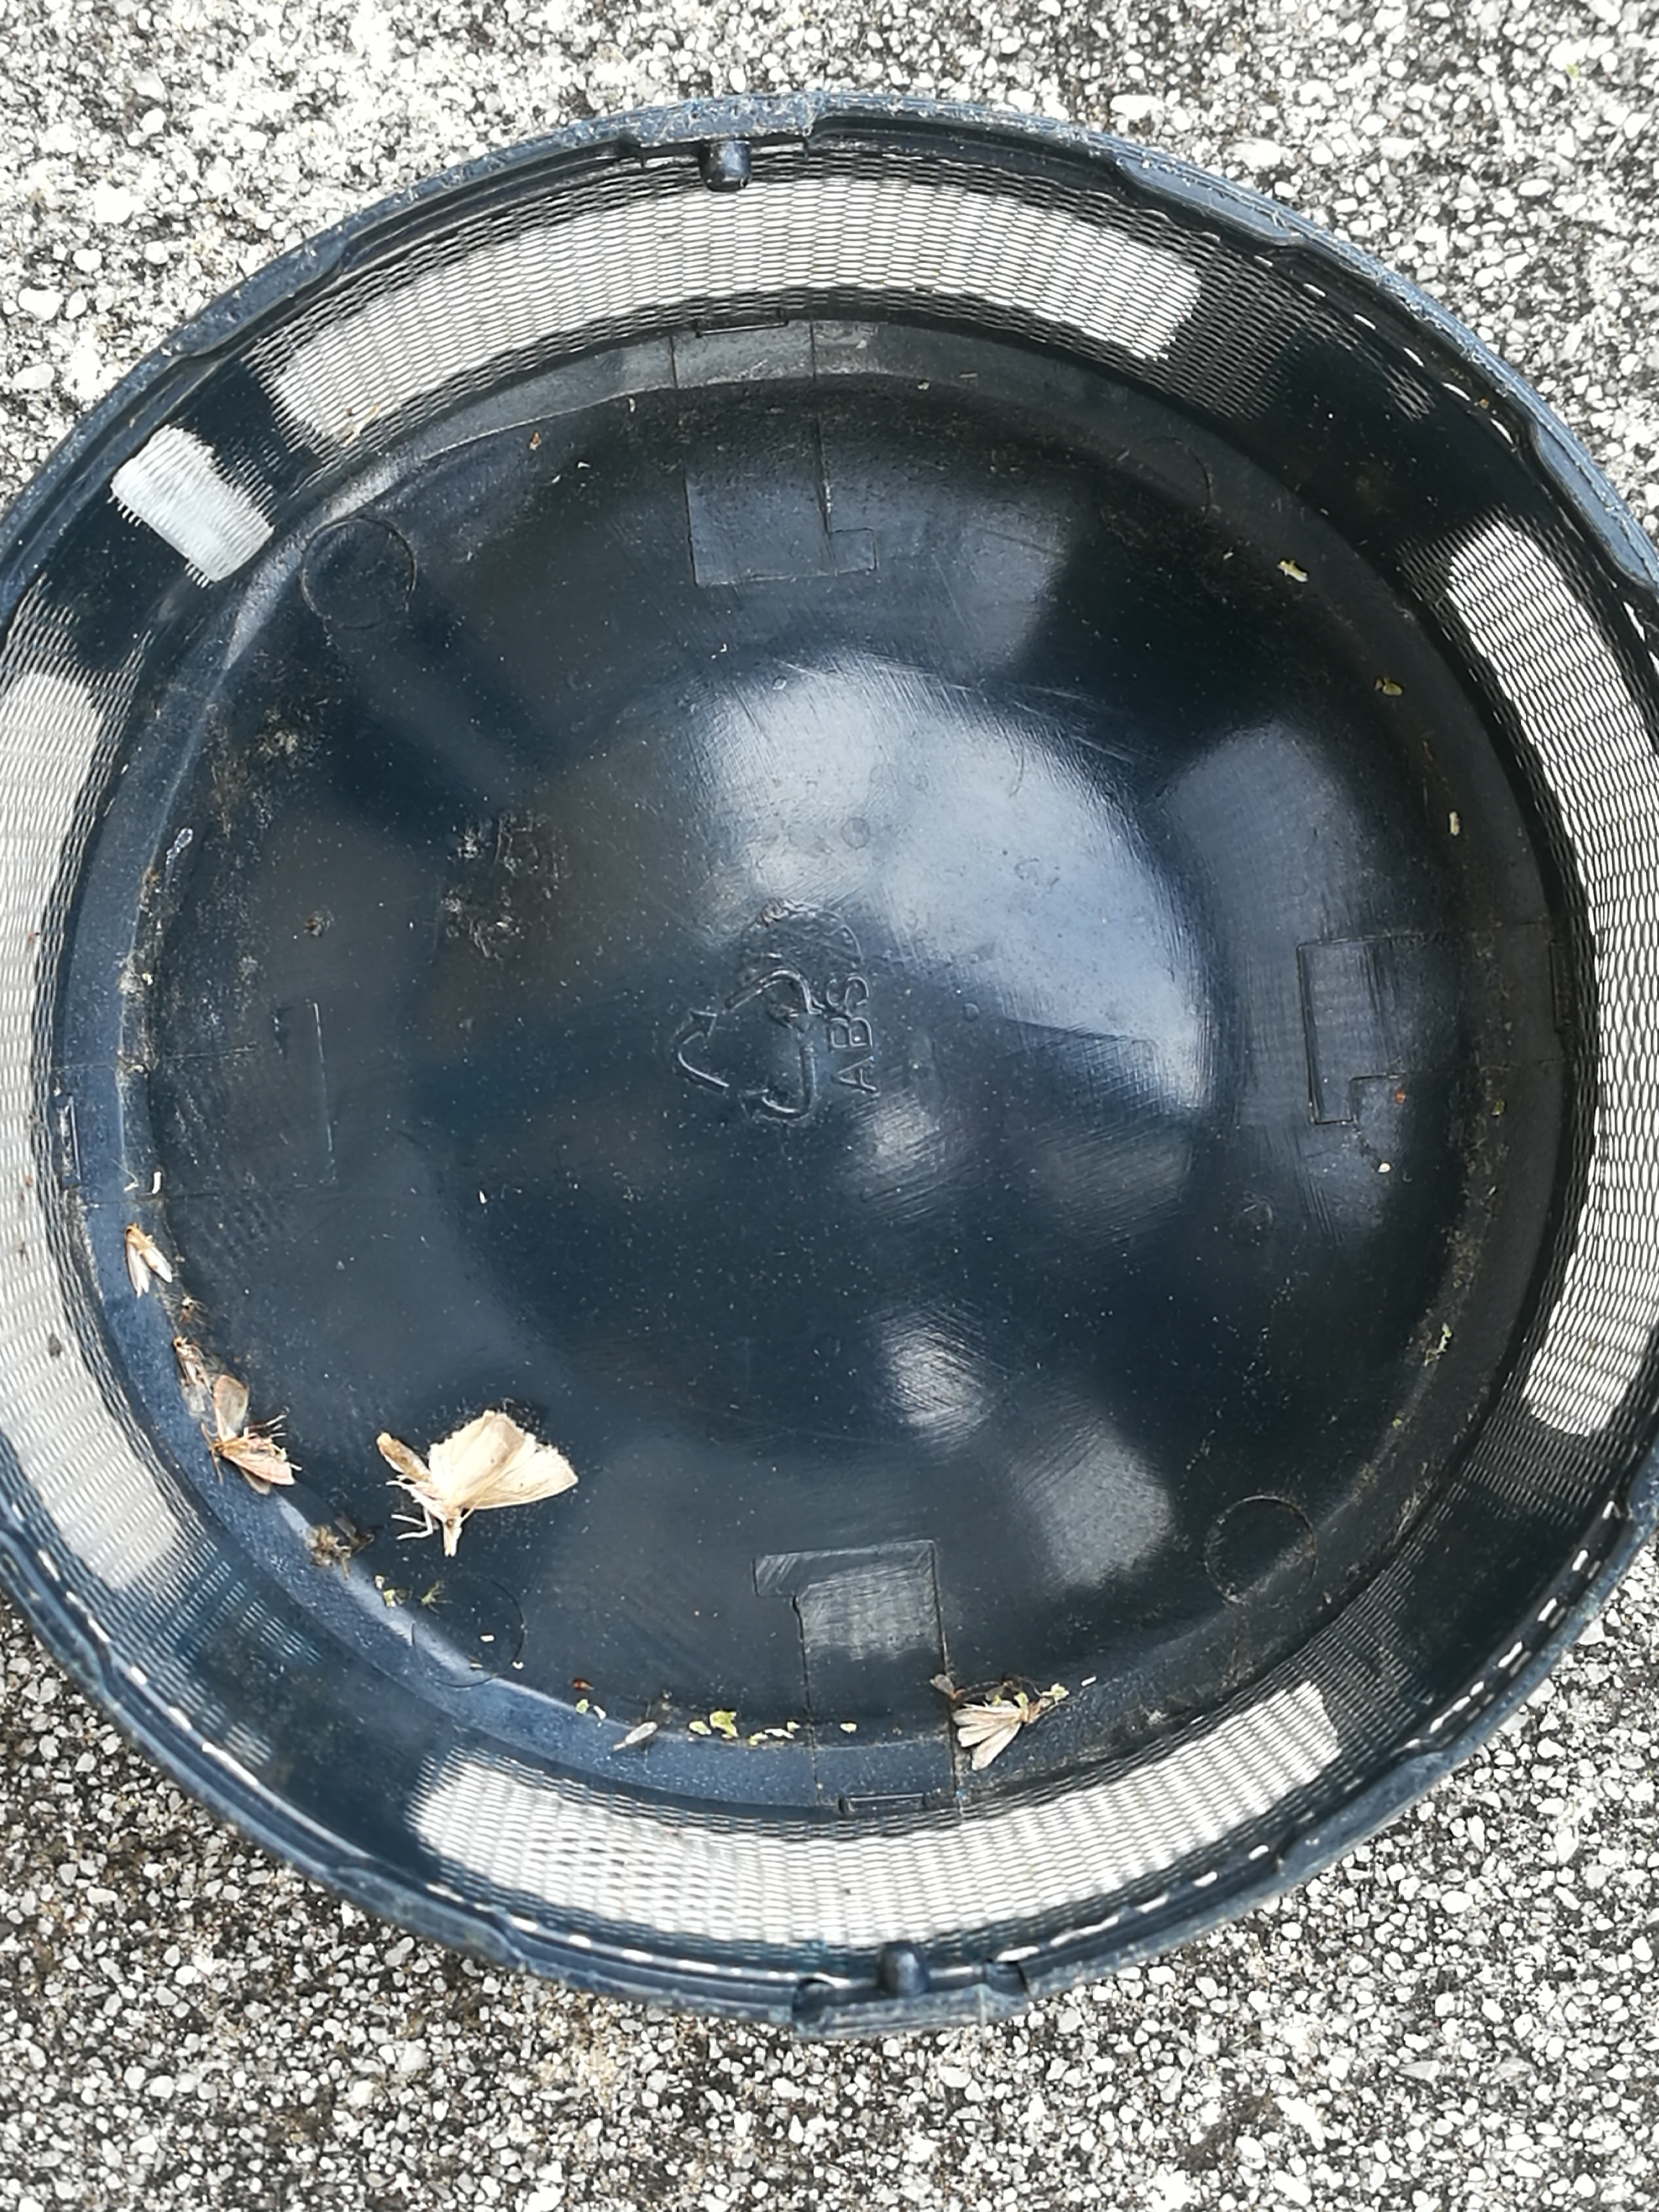mosquito: (174, 1338, 211, 1395)
moth: (376, 1411, 577, 1555), (213, 1376, 295, 1494), (955, 1705, 1030, 1771), (125, 1228, 173, 1298)
